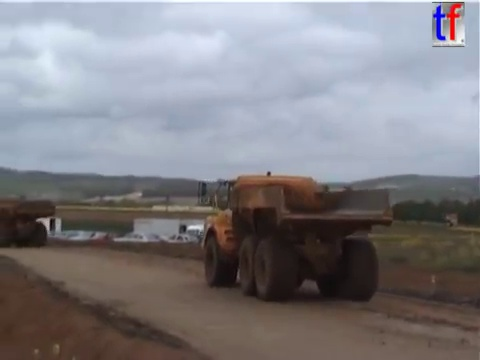truck: (195, 169, 396, 303), (1, 197, 58, 249)
